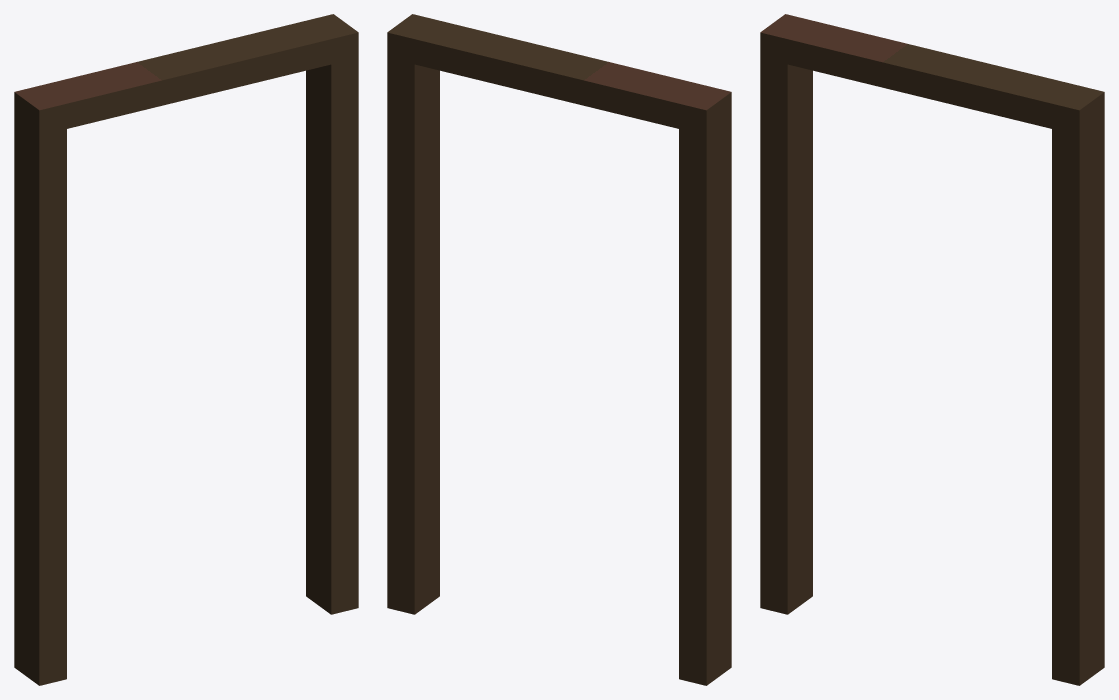
File: DoorRama.fbx
The picture shows the model from 3 angles, left to right: view 1: azimuth 30°, elevation 25°; view 2: azimuth 150°, elevation 25°; view 3: azimuth 330°, elevation 25°; orthographic projection.
Parts seen in each view (by area): view 1: Cube.006; view 2: Cube.006; view 3: Cube.006.
Part boxes in pixels (<box>): Cube.006: <box>14,14,358,685</box>; Cube.006: <box>387,14,731,685</box>; Cube.006: <box>760,14,1104,685</box>.
Size of the model in its own units: 83.65 by 144 by 11.46.
